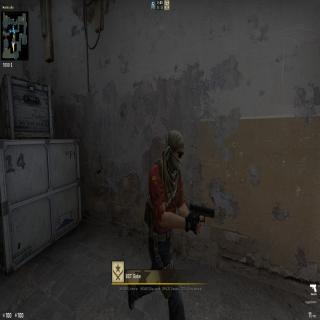T-Head: (164, 127, 185, 174)
